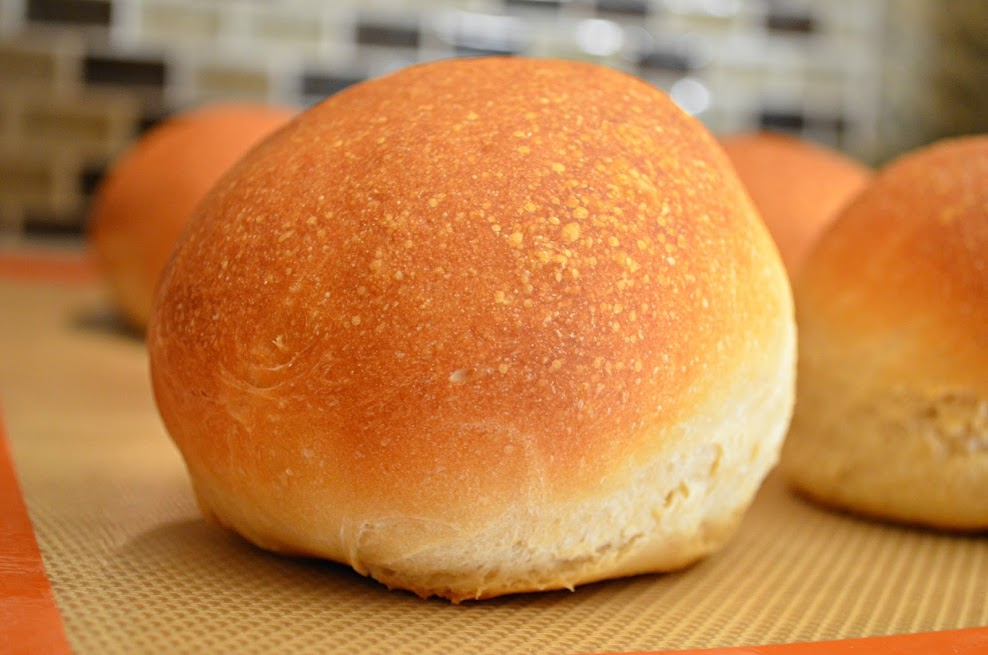hamburger_buns: (153, 45, 825, 583), (746, 117, 988, 510)
